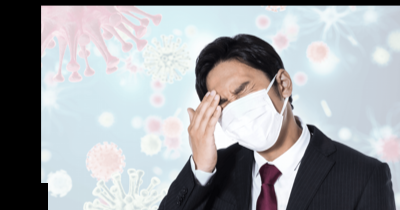with_mask: (213, 79, 287, 152)
